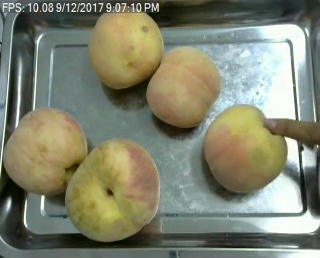Peach: (65, 139, 158, 244), (201, 105, 288, 194), (4, 107, 85, 193), (86, 6, 164, 92), (146, 46, 223, 128)
